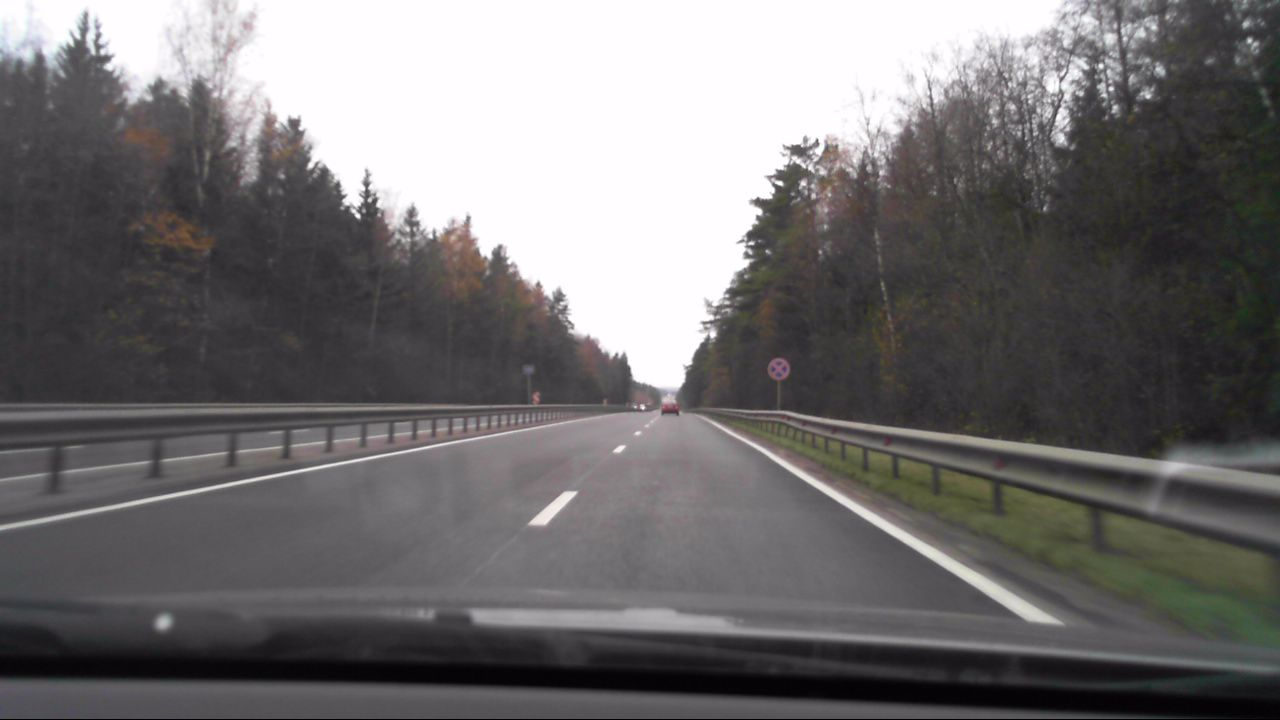No Parking: (763, 356, 790, 383)
